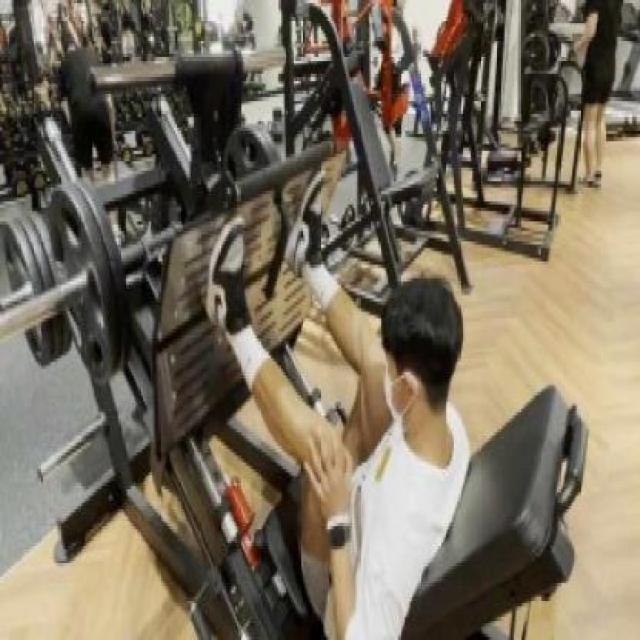leg press: (0, 44, 591, 640)
